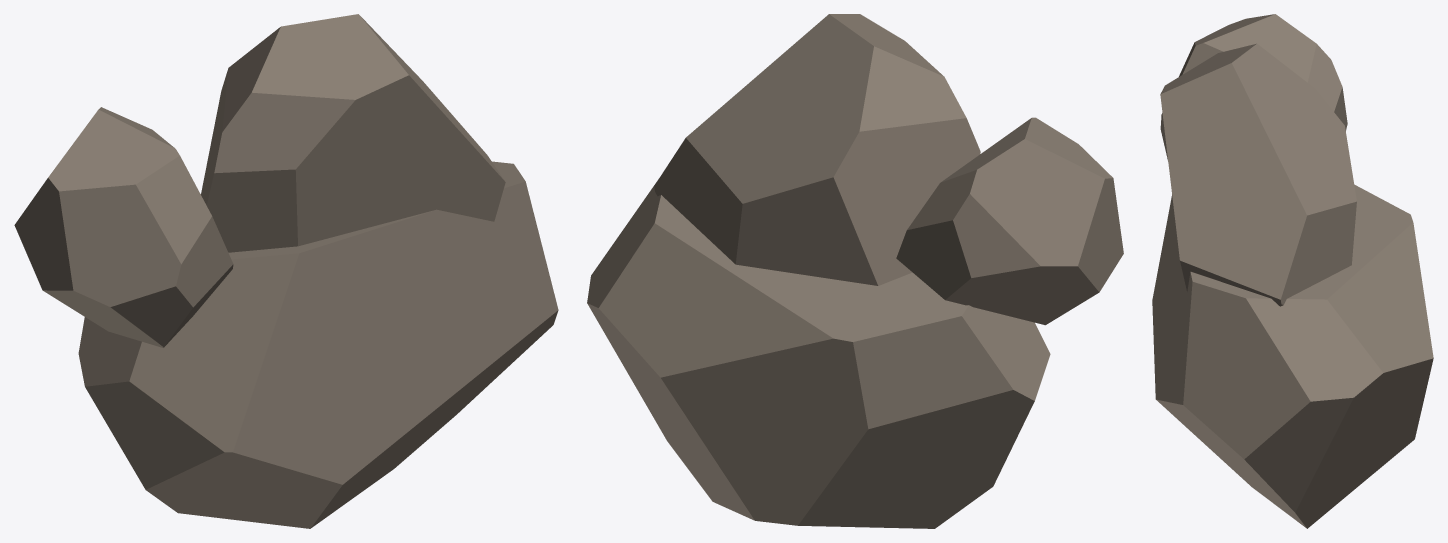
File: stone6.dae
3 renders of one model, left to right at view 1: azimuth 30°, elevation 25°; view 2: azimuth 150°, elevation 25°; view 3: azimuth 270°, elevation 25°, orthographic. The views are drawn at different scales.
Visible parts, largest first — view 1: Rock Type2 01 mesh; view 2: Rock Type2 01 mesh; view 3: Rock Type2 01 mesh.
Boxes of the visible parts, x1,y1,x2,y2 form: Rock Type2 01 mesh: [14, 14, 558, 528]; Rock Type2 01 mesh: [587, 14, 1123, 528]; Rock Type2 01 mesh: [1152, 14, 1433, 528].
Bounding box in the file's own units: 3.35 × 1.87 × 3.22.
1 material, 1 textured.
